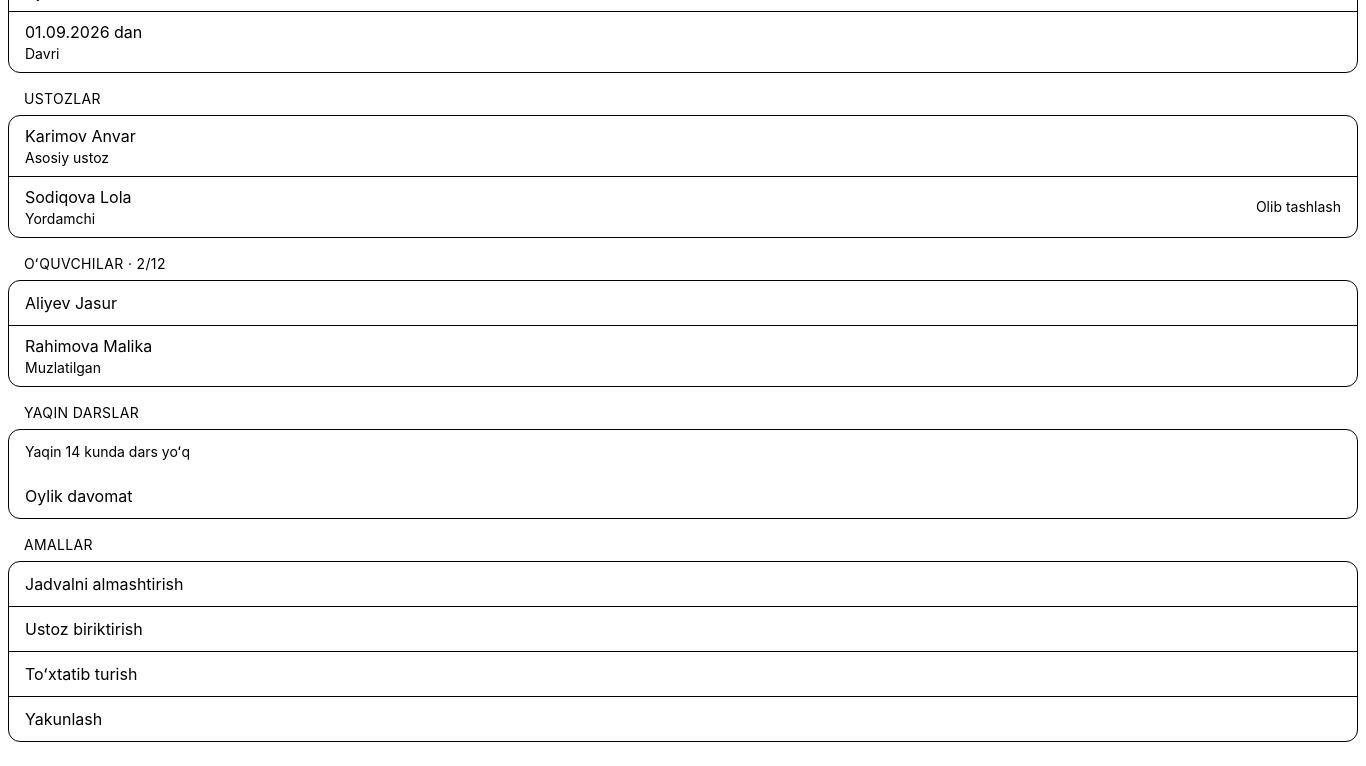
Test: MS-12/MS-20 Guruhlar (T-136, T-149) › yakunlash — oqibati bilan tasdiqlanadi (Q-102)
The image size is (1366, 766).
Later steps or results of the test are not shown.
(page scrolled)
Click the button "Yakunlash" at (64, 719), box [9,697,1357,741]
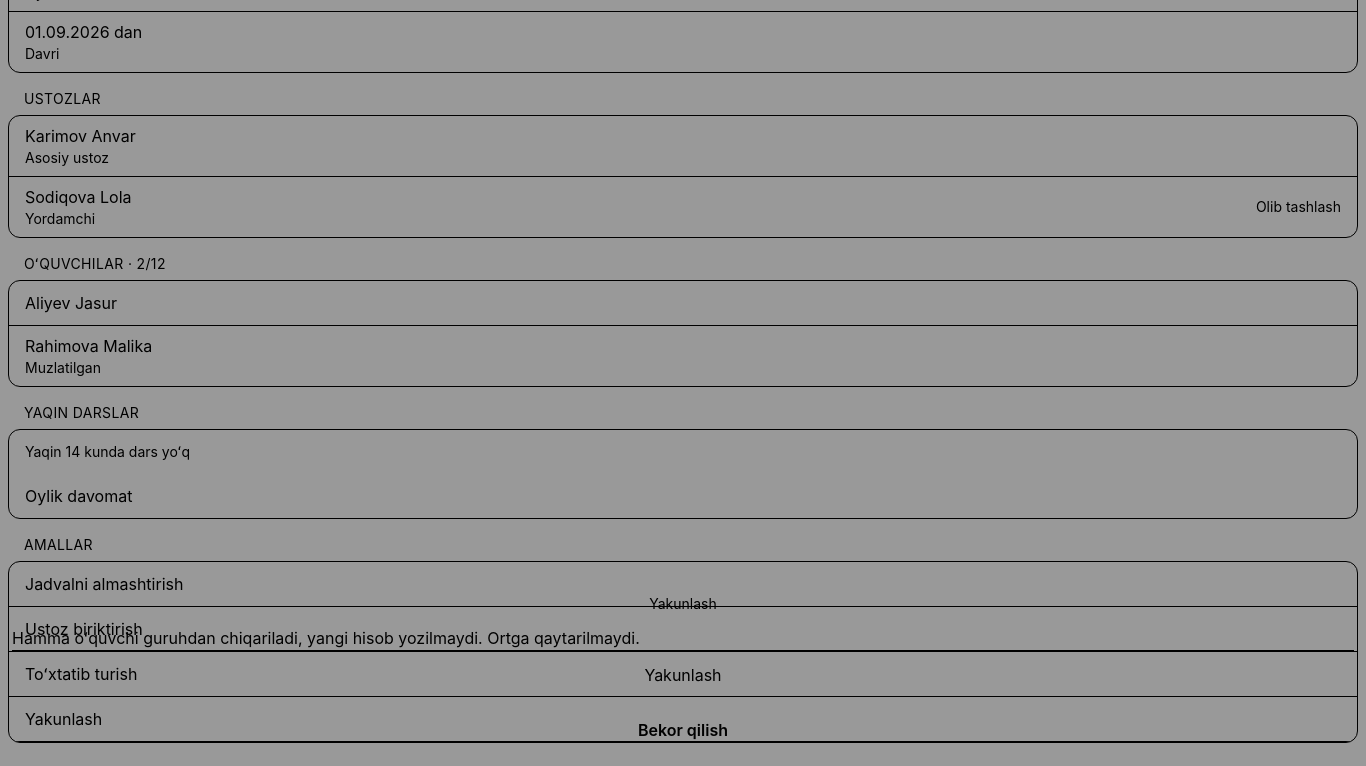
Expected: the text "Hamma oʻquvchi guruhdan chiqariladi, yangi hisob yozilmaydi. Ortga qaytarilmaydi." is shown, [12,628,640,648]
